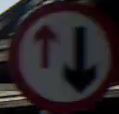Two way: (20, 15, 106, 90)
